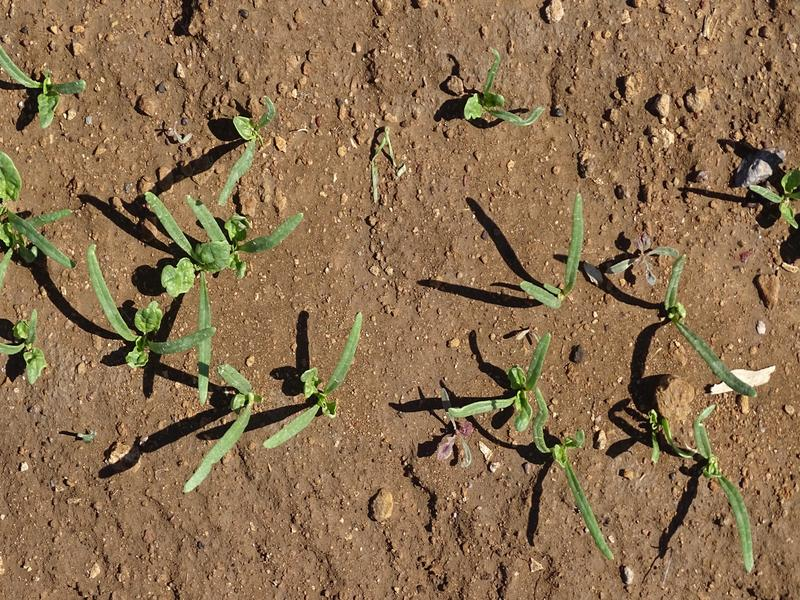Espinaca: (93, 119, 362, 465), (467, 341, 619, 567), (1, 32, 84, 277), (647, 253, 757, 393), (679, 404, 758, 551), (514, 195, 594, 308), (471, 49, 547, 140), (5, 315, 50, 375)
